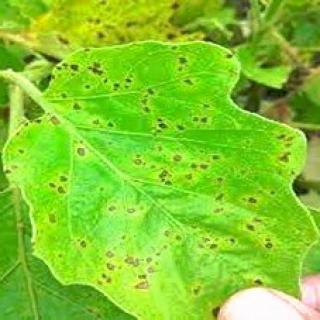leaf spot: (9, 44, 313, 308)
